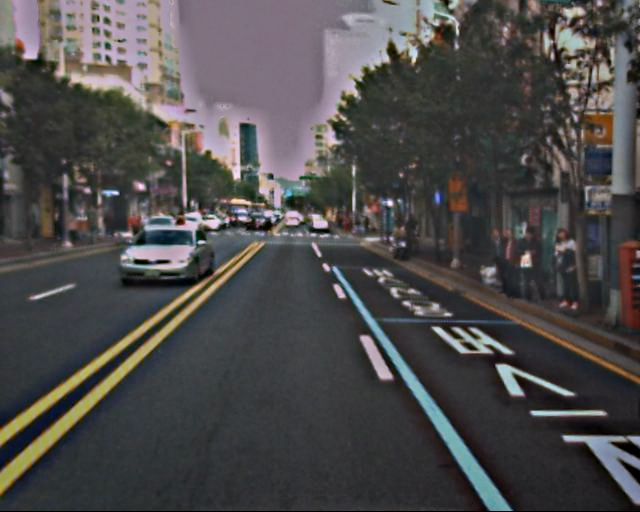person: (546, 228, 584, 312), (517, 225, 549, 306), (497, 227, 525, 296), (484, 229, 512, 296)
